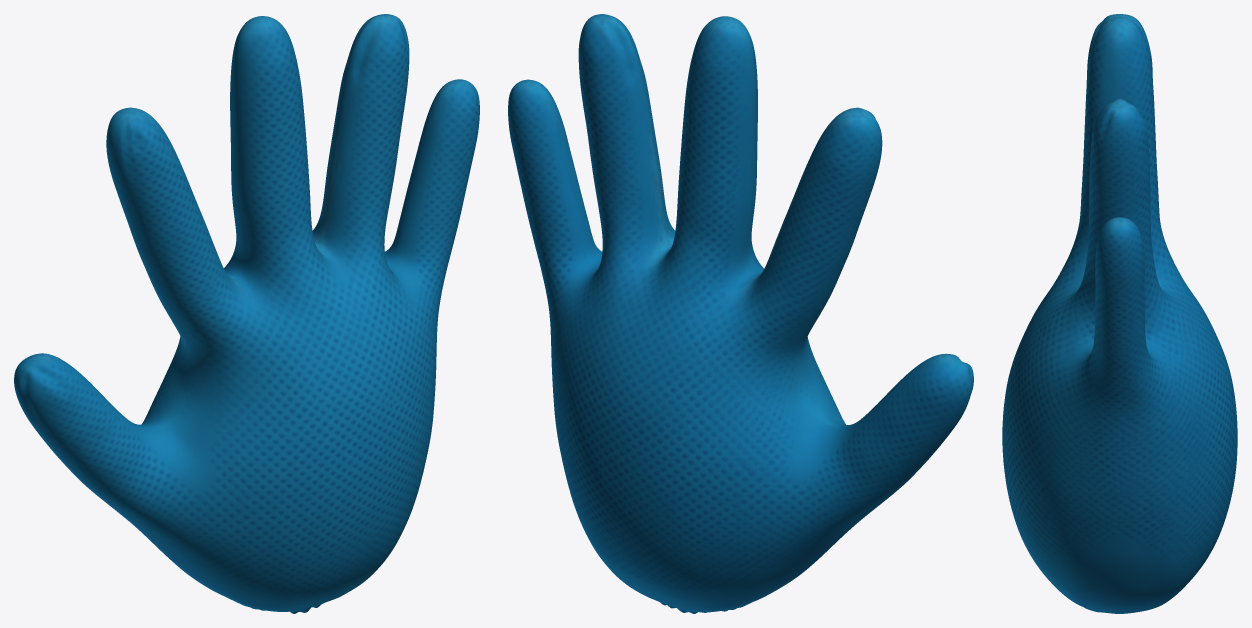
Rendered from micro-diamond-8-mil.glb.
The picture shows the model from 3 angles, left to right: view 1: azimuth 30°, elevation 25°; view 2: azimuth 150°, elevation 25°; view 3: azimuth 270°, elevation 25°; orthographic projection. The views are drawn at different scales.
Bounding box in the file's own units: 1.61 × 2 × 0.7399.
1 material, 1 textured.
